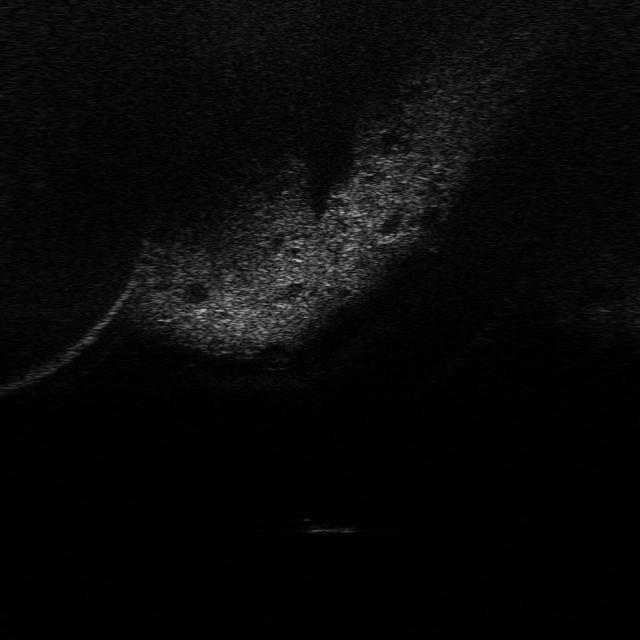cube: (296, 511, 366, 536)
